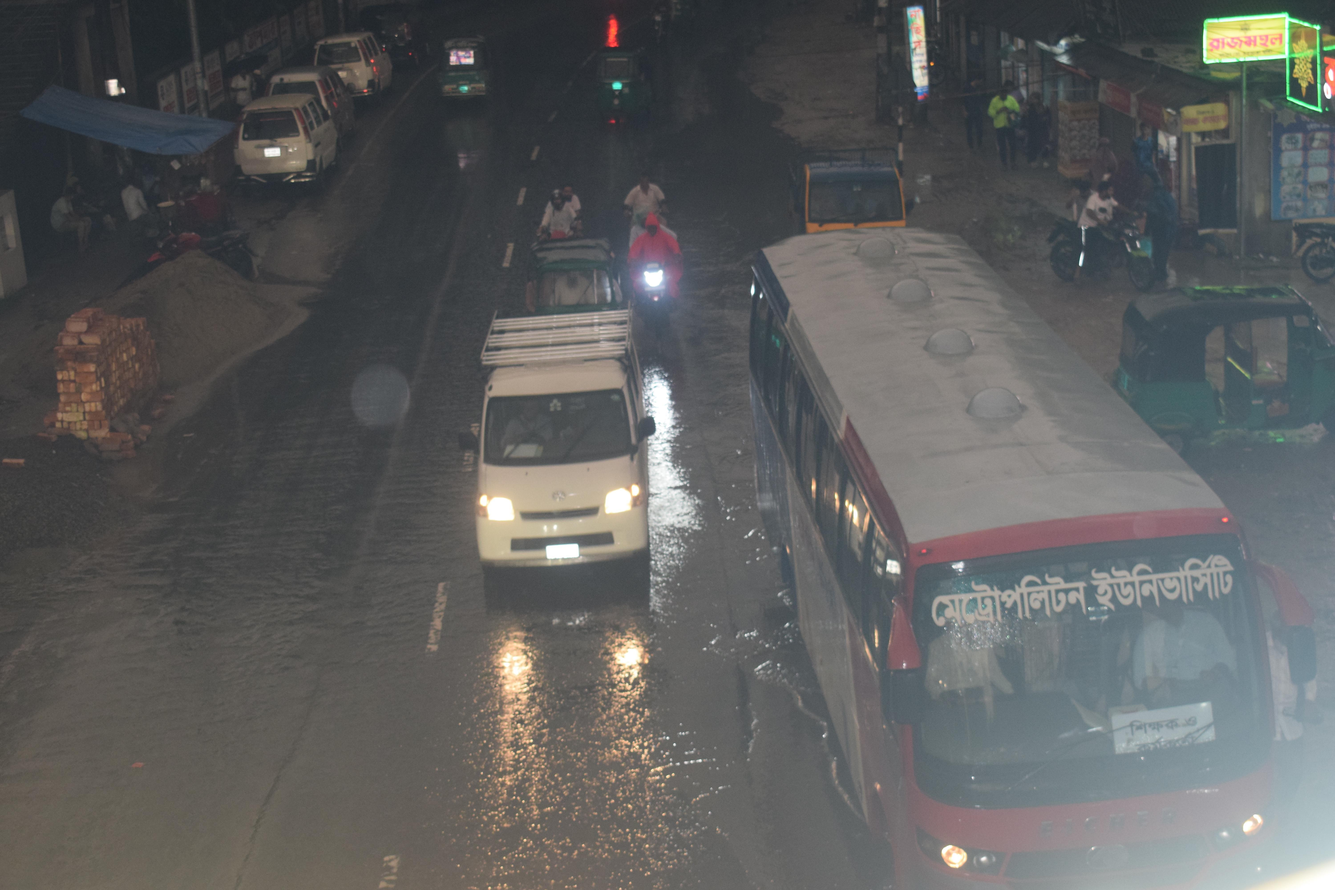Bike: (1029, 161, 1190, 313), (613, 192, 719, 345)
Bus: (711, 207, 1327, 890)
Car: (198, 85, 355, 207), (295, 12, 419, 121), (259, 58, 373, 149)
Truck: (435, 288, 695, 598)
